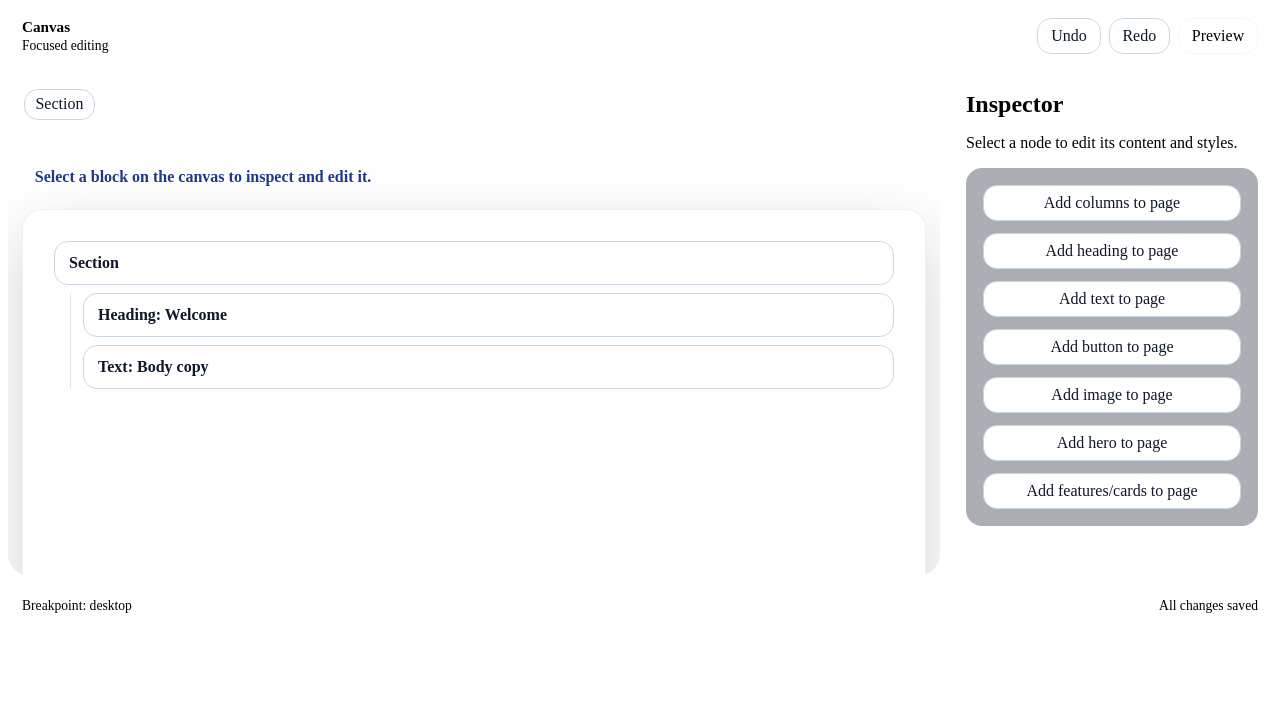
Test case: editor shell flow › deletes the selected block and moves selection to a sibling
Click the button "Text: Body copy": (153, 366) [83,345,894,389]
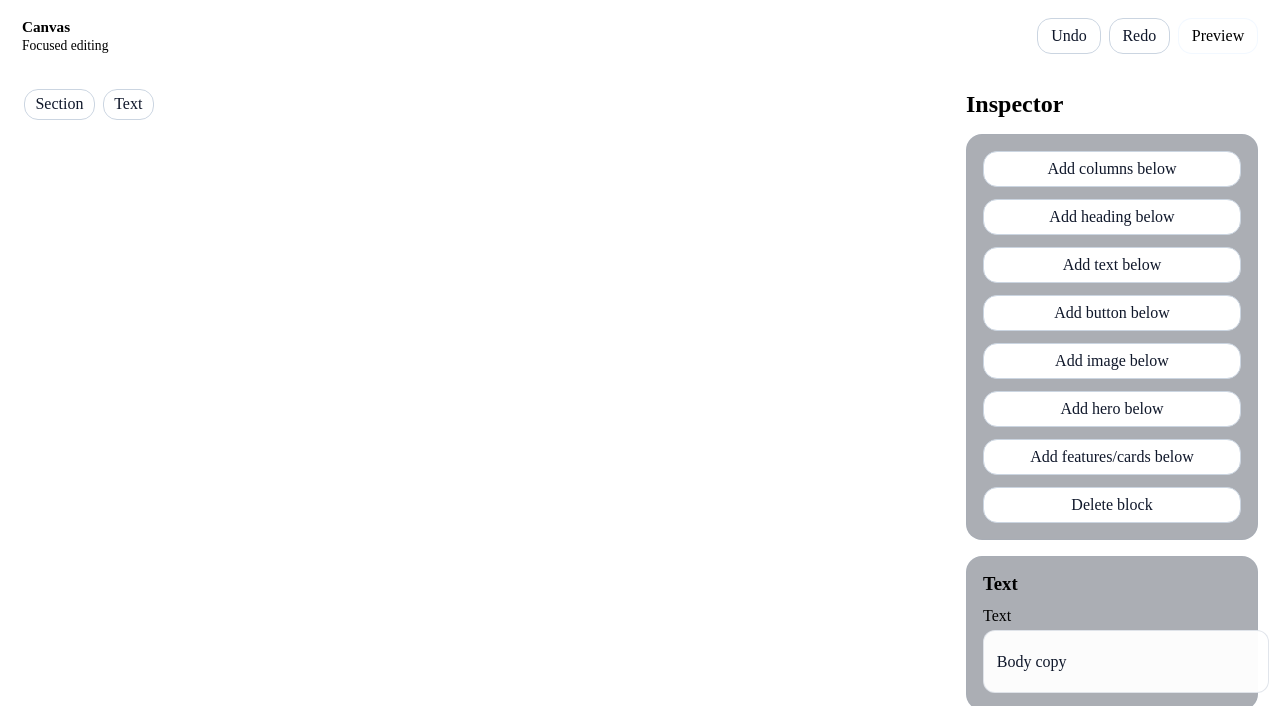
expect the field labelled "Text" holds "Body copy": met, box [983,630,1269,693]
Click the button "Delete block": (1112, 505) [983,487,1241,523]
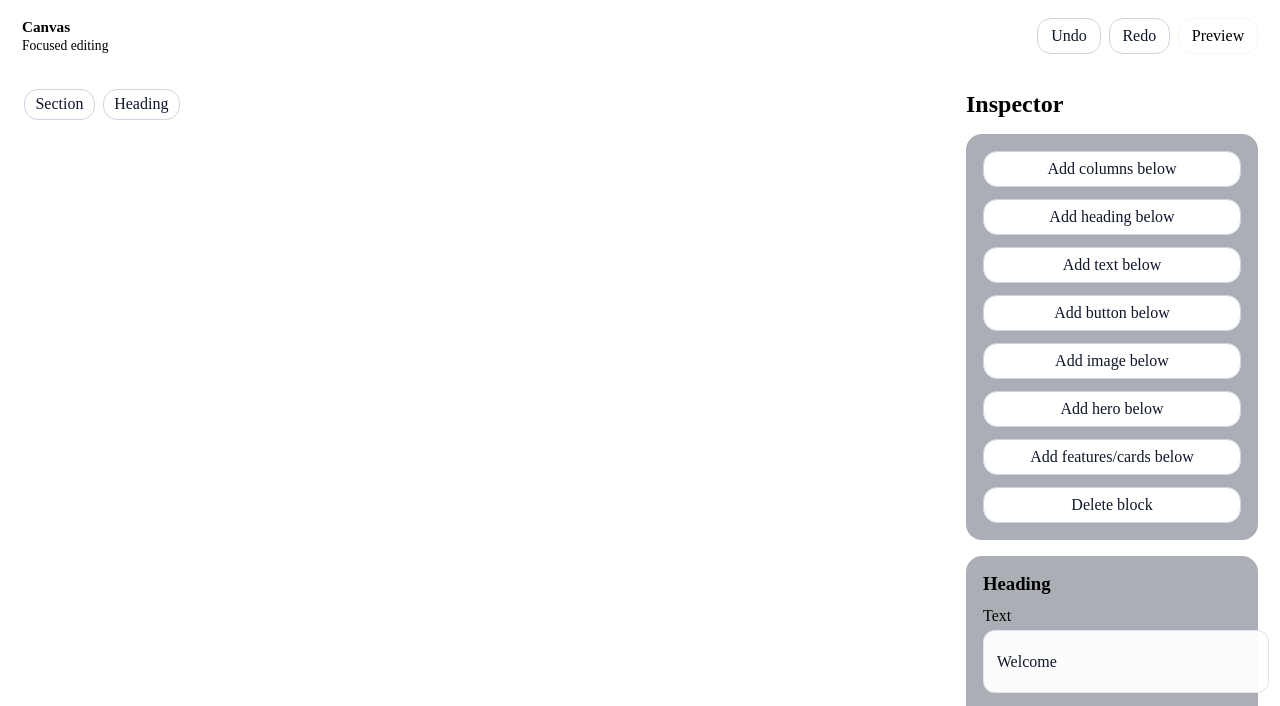
expect the field labelled "Text" holds "Welcome": met, box [983,630,1269,693]
